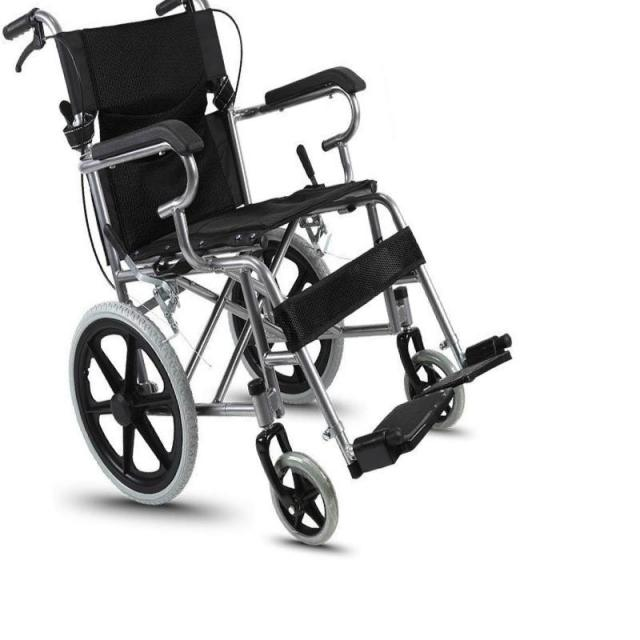wheelchair: (0, 0, 536, 570)
